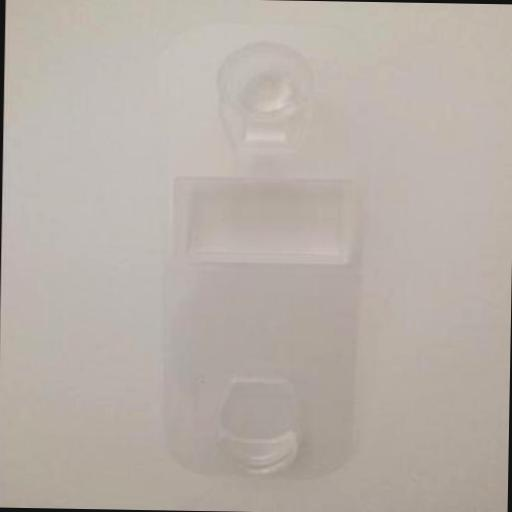plastic: (144, 17, 374, 479)
